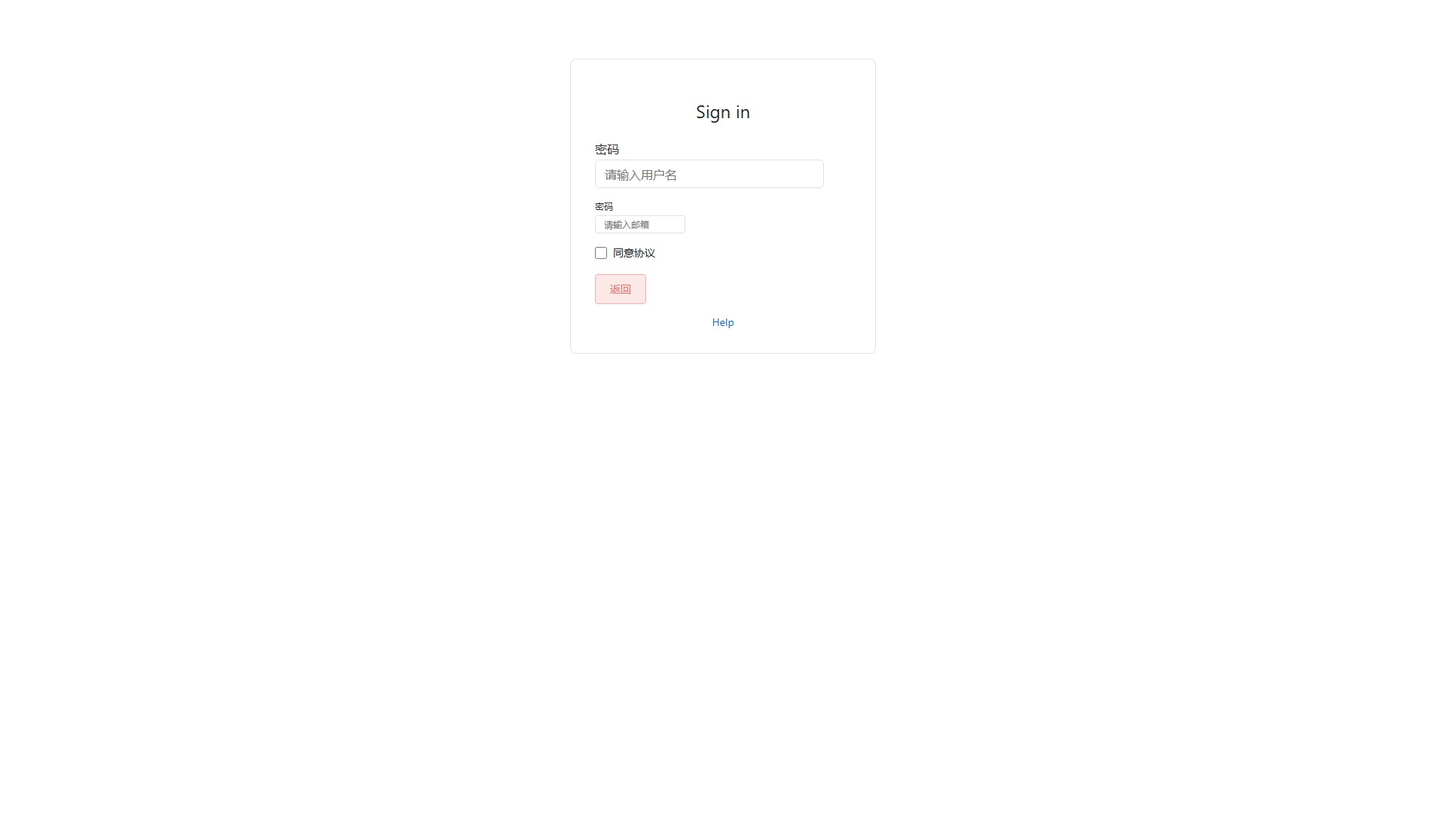button: (595, 274, 646, 304)
checkbox: (595, 247, 607, 259)
icon: (613, 246, 655, 260)
input: (595, 160, 824, 188), (595, 215, 685, 234)
link: (712, 314, 734, 329)
radio: (595, 246, 655, 260)
